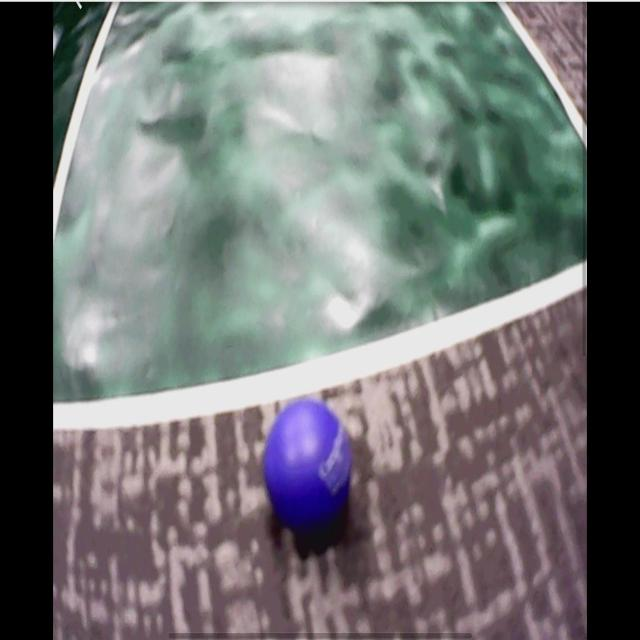ball: (264, 401, 354, 527)
